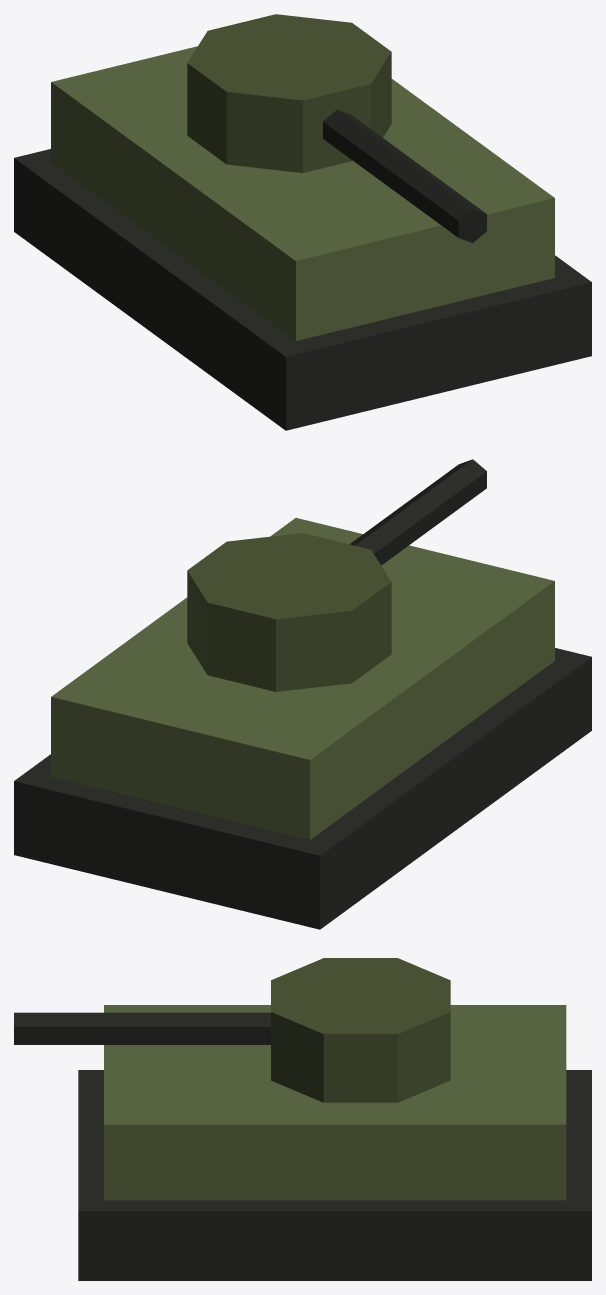
File: tank.glb
The picture shows the model from 3 angles, top to bottom: view 1: azimuth 30°, elevation 25°; view 2: azimuth 150°, elevation 25°; view 3: azimuth 270°, elevation 25°; orthographic projection. The views are drawn at different scales.
Parts seen in each view (by area): view 1: hull, tracks, turret, gun; view 2: hull, tracks, turret, gun; view 3: hull, tracks, turret, gun.
Boxes of the visible parts, <box> form: hull: <box>51,46,554,340</box>; tracks: <box>14,149,591,430</box>; turret: <box>187,14,391,172</box>; gun: <box>323,109,486,242</box>; hull: <box>51,518,554,839</box>; tracks: <box>14,648,591,929</box>; turret: <box>187,533,391,691</box>; gun: <box>350,459,486,565</box>; hull: <box>104,1005,566,1200</box>; tracks: <box>78,1070,591,1280</box>; turret: <box>271,958,450,1102</box>; gun: <box>14,1012,270,1044</box>.
Size of the model in its own units: 0.13 by 0.092 by 0.225.
